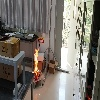fire: (33, 47, 39, 80)
